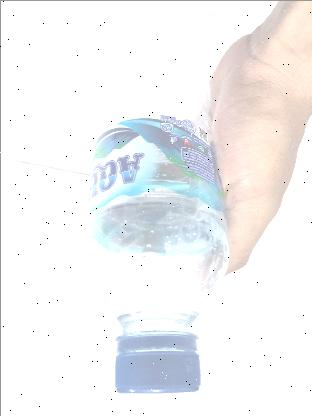Plastic Bottle: (75, 0, 233, 396)
